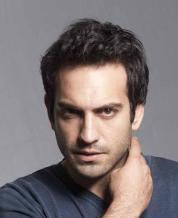face: (56, 98, 120, 162)
